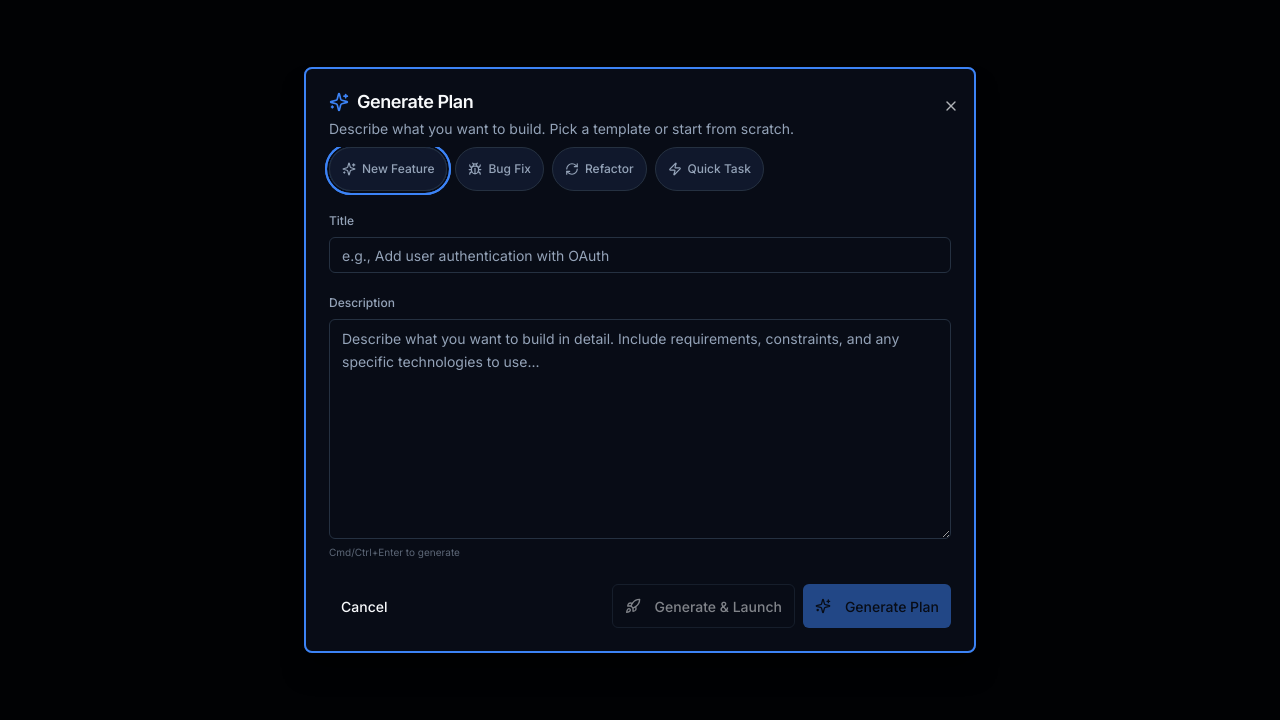
Test: GeneratePlanDialog › should enable Generate Plan button when fields have values
This screenshot has width=1280, height=720.
Step 1. Type "Test Title" into the field labelled "Title" → (640, 255), box [329, 237, 951, 273]
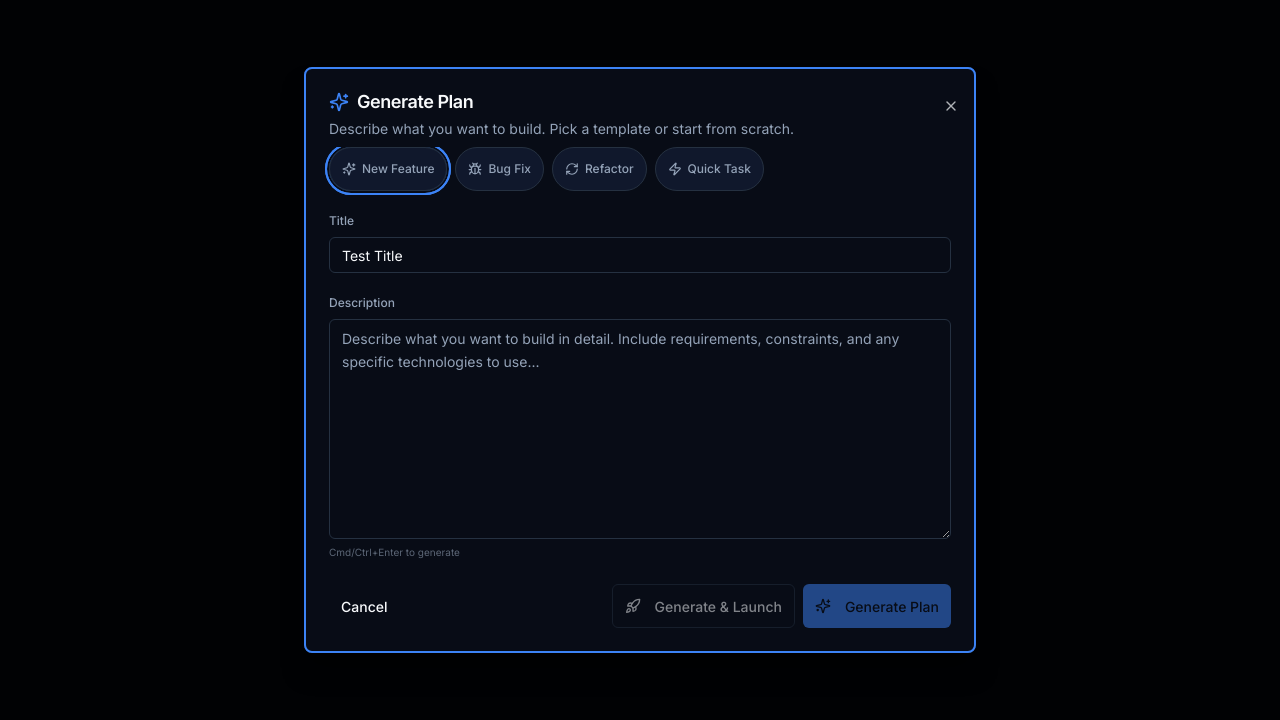
Step 2. Replace the text in the text box labelled "Description" with "Test Description" → (640, 429), box [329, 319, 951, 539]
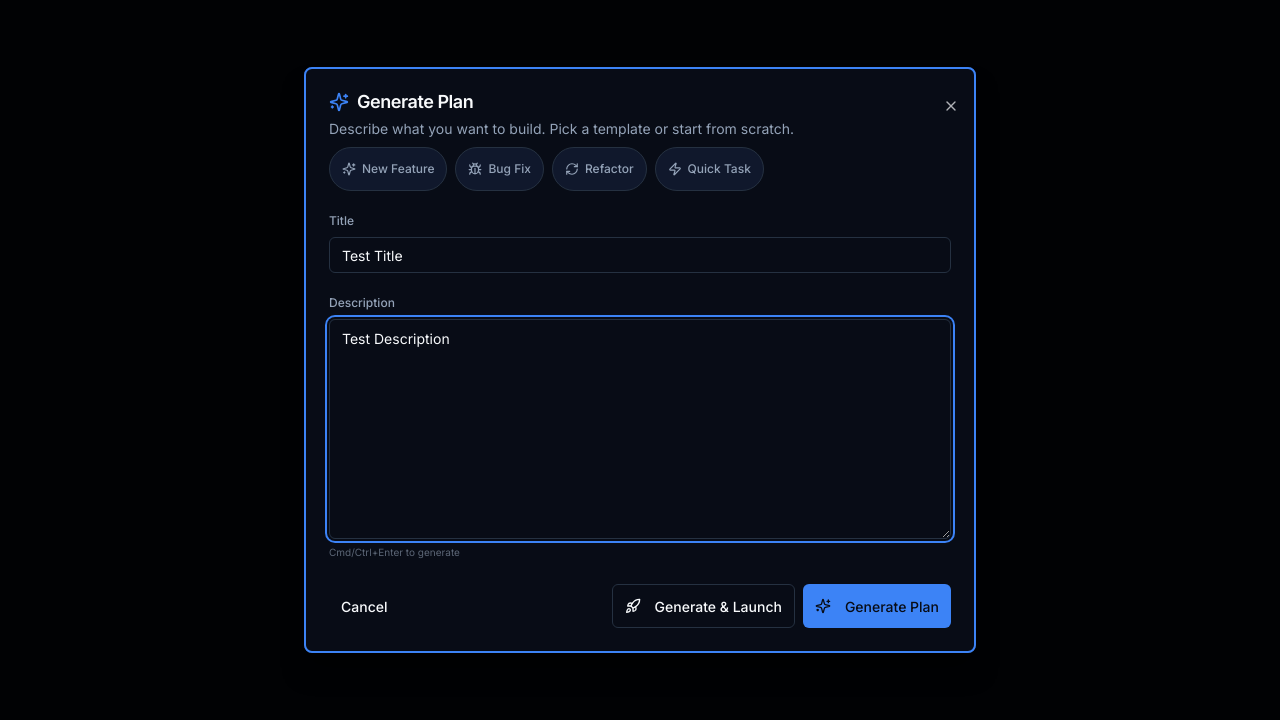
Check: the button "Generate Plan" is enabled, box [803, 584, 951, 628]
